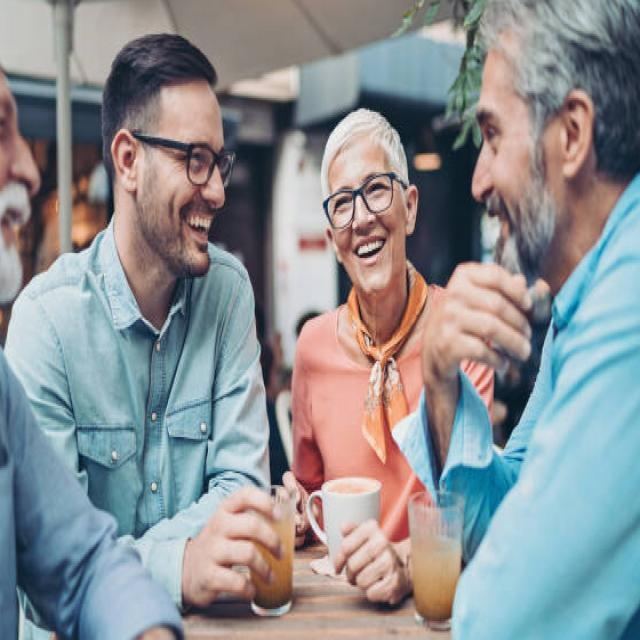Glasses: (146, 130, 238, 191), (319, 169, 405, 234)
